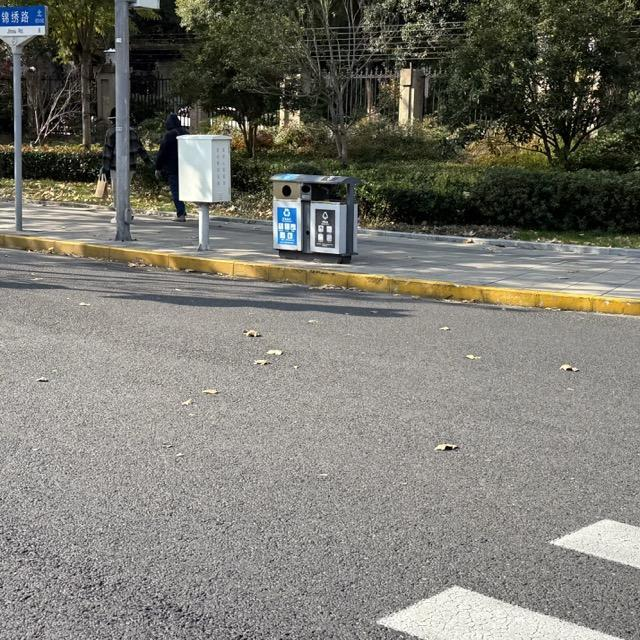curb: (0, 233, 639, 315)
